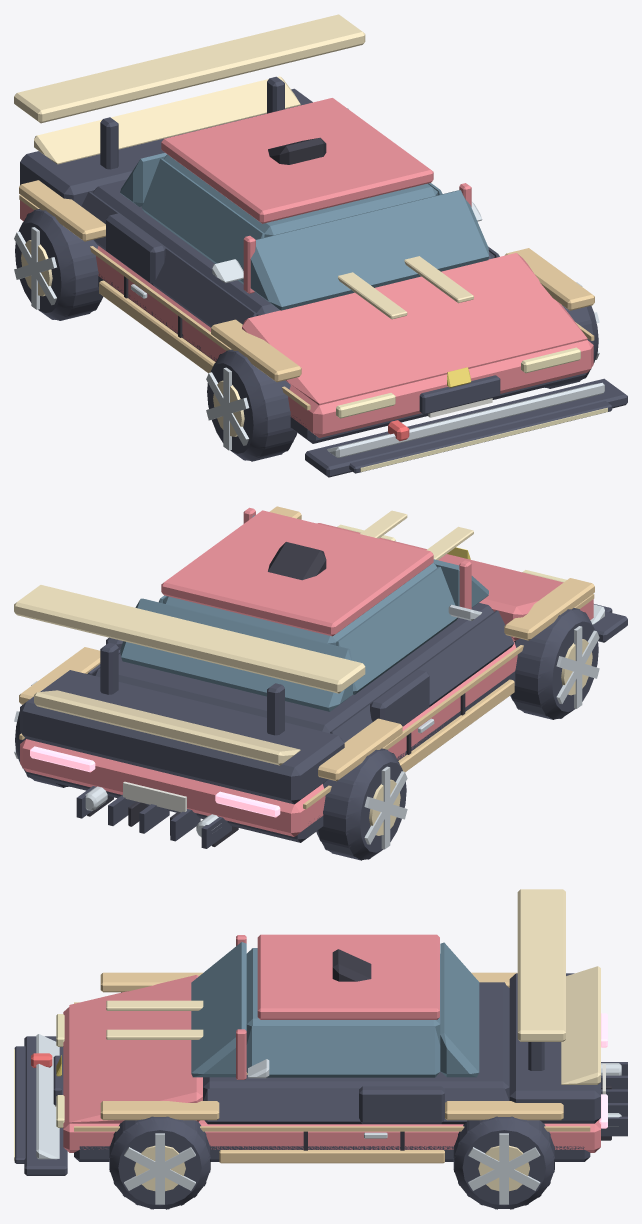
File: chicane_chaser.fbx
3 renders of one model, top to bottom at view 1: azimuth 30°, elevation 25°; view 2: azimuth 150°, elevation 25°; view 3: azimuth 270°, elevation 25°, orthographic. The views are drawn at different scales.
Visible parts, largest first — view 1: Body, Glass, Trim, Accent2, Accent, Wheel_FR, Wheel_RR, Accent3, Metal, Light, Light3, Trim2 (+2 smaller); view 2: Trim, Body, Accent2, Glass, Accent, Wheel_RR, Wheel_FR, Metal, Trim2, Light2, Light3, Accent4 (+2 smaller); view 3: Body, Trim, Glass, Accent2, Accent, Wheel_RL, Wheel_FL, Metal, Accent3, Light3, Metal2, Trim2 (+2 smaller).
Boxes of the visible parts, left/top/right/bottom form: Body: left=20, top=98, right=593, bottom=437; Glass: left=120, top=108, right=489, bottom=310; Trim: left=20, top=76, right=627, bottom=477; Accent2: left=14, top=14, right=365, bottom=164; Accent: left=19, top=180, right=594, bottom=410; Wheel_FR: left=207, top=349, right=297, bottom=461; Wheel_RR: left=15, top=209, right=103, bottom=320; Accent3: left=212, top=201, right=604, bottom=457; Metal: left=14, top=227, right=599, bottom=450; Light: left=336, top=347, right=607, bottom=471; Light3: left=338, top=256, right=473, bottom=319; Trim2: left=124, top=137, right=326, bottom=337; Trim: left=20, top=603, right=627, bottom=848; Body: left=20, top=507, right=593, bottom=836; Accent2: left=14, top=585, right=365, bottom=765; Glass: left=120, top=515, right=488, bottom=711; Accent: left=19, top=506, right=594, bottom=809; Wheel_RR: left=316, top=748, right=406, bottom=860; Wheel_FR: left=510, top=608, right=598, bottom=719; Metal: left=14, top=626, right=599, bottom=849; Trim2: left=87, top=542, right=465, bottom=846; Light2: left=30, top=746, right=280, bottom=817; Light3: left=360, top=510, right=473, bottom=559; Accent4: left=123, top=781, right=186, bottom=812; Body: left=63, top=934, right=600, bottom=1152; Trim: left=14, top=973, right=627, bottom=1175; Glass: left=191, top=942, right=479, bottom=1077; Accent2: left=246, top=889, right=600, bottom=1084; Accent: left=74, top=972, right=590, bottom=1163; Wheel_RL: left=453, top=1116, right=554, bottom=1209; Wheel_FL: left=109, top=1116, right=210, bottom=1209; Metal: left=124, top=1063, right=621, bottom=1204; Accent3: left=36, top=1034, right=269, bottom=1159; Light3: left=106, top=1000, right=203, bottom=1039; Metal2: left=134, top=1145, right=529, bottom=1191; Trim2: left=303, top=949, right=611, bottom=1150.
Bounding box in the file's own units: 3.4 × 1.86 × 5.71.
